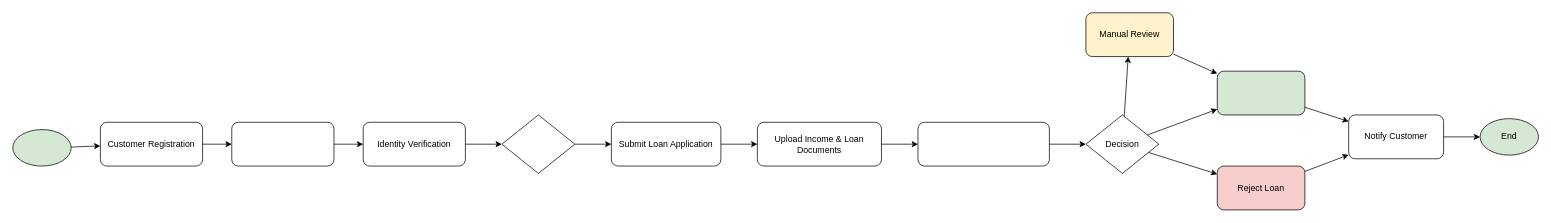
Image size: 1551x223. Some labels were removed from this diagram. The box of each missing label's shape, as (x1, y1, x2, y2) in pixels:
Approve Loan: (1217, 70, 1305, 115)
Credit Assessment & Risk Score: (917, 122, 1049, 166)
KYC Valid?: (501, 114, 575, 173)
Start: (12, 129, 71, 166)
Upload KYC Documents: (231, 122, 334, 166)
